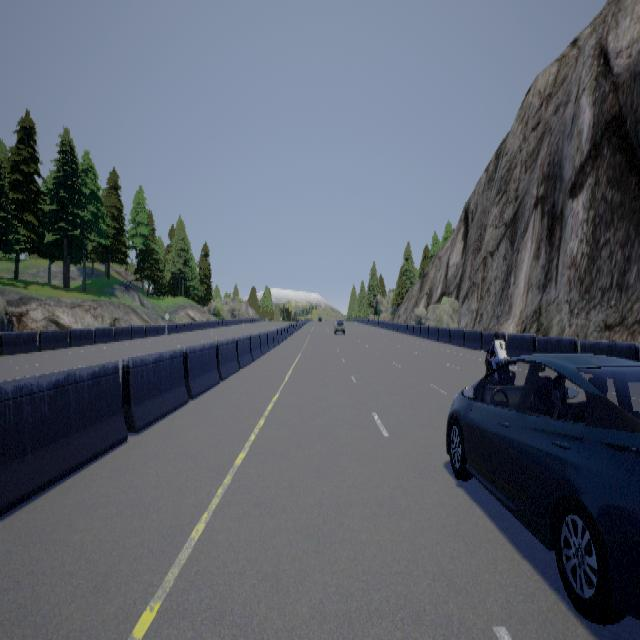motobike: (482, 332, 515, 389)
vehicle: (445, 347, 639, 625), (330, 316, 344, 334)
